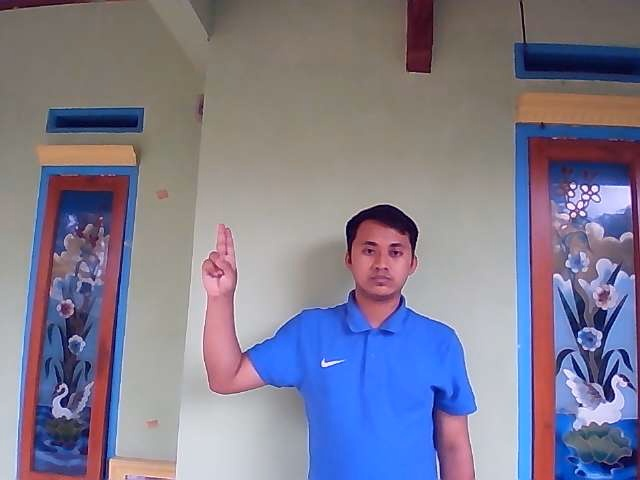U: (200, 223, 239, 294)
